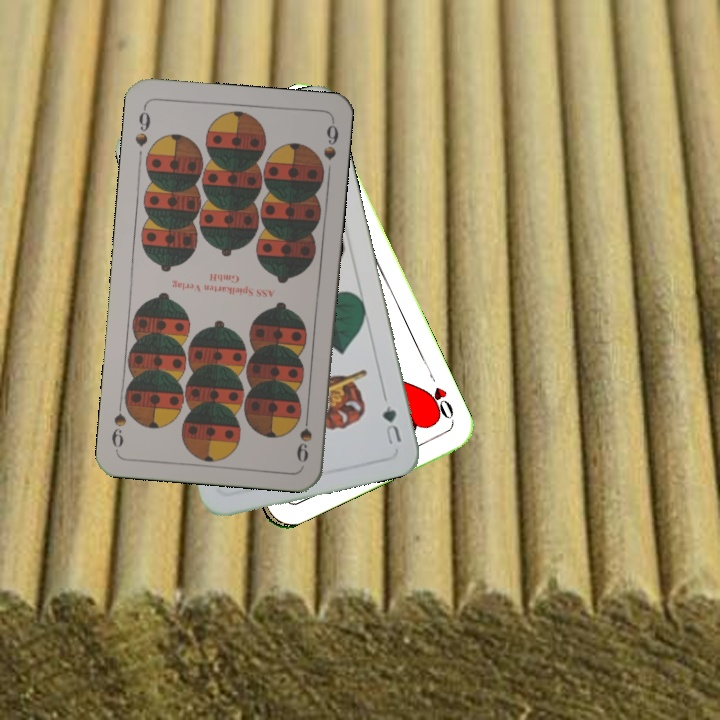GU: (378, 401, 404, 448)
HO: (420, 368, 457, 424)
S9: (291, 406, 315, 465), (130, 102, 153, 149)
